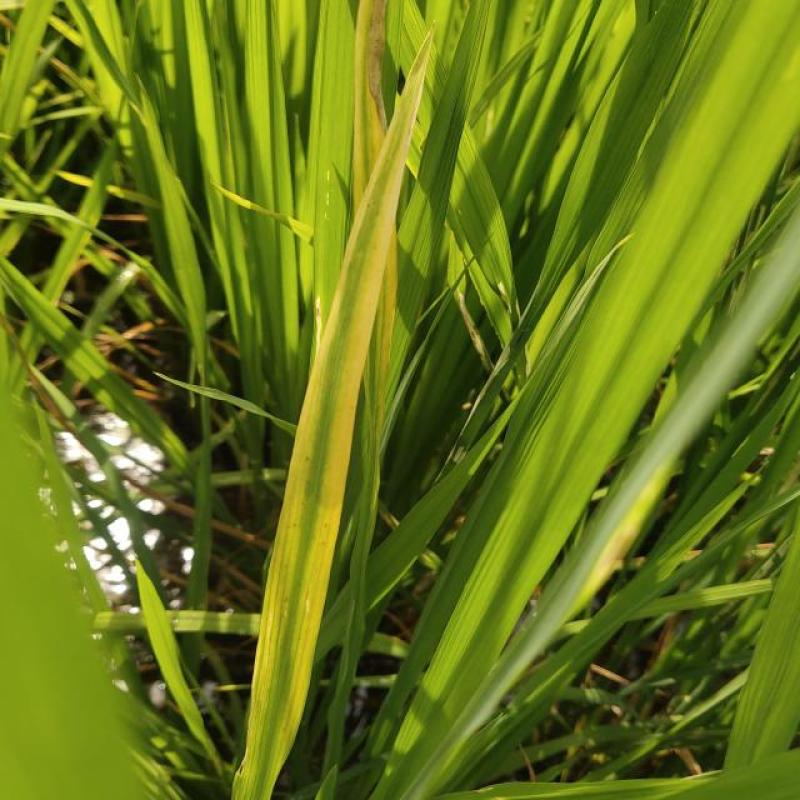Rice Tungro: (211, 24, 474, 705)
